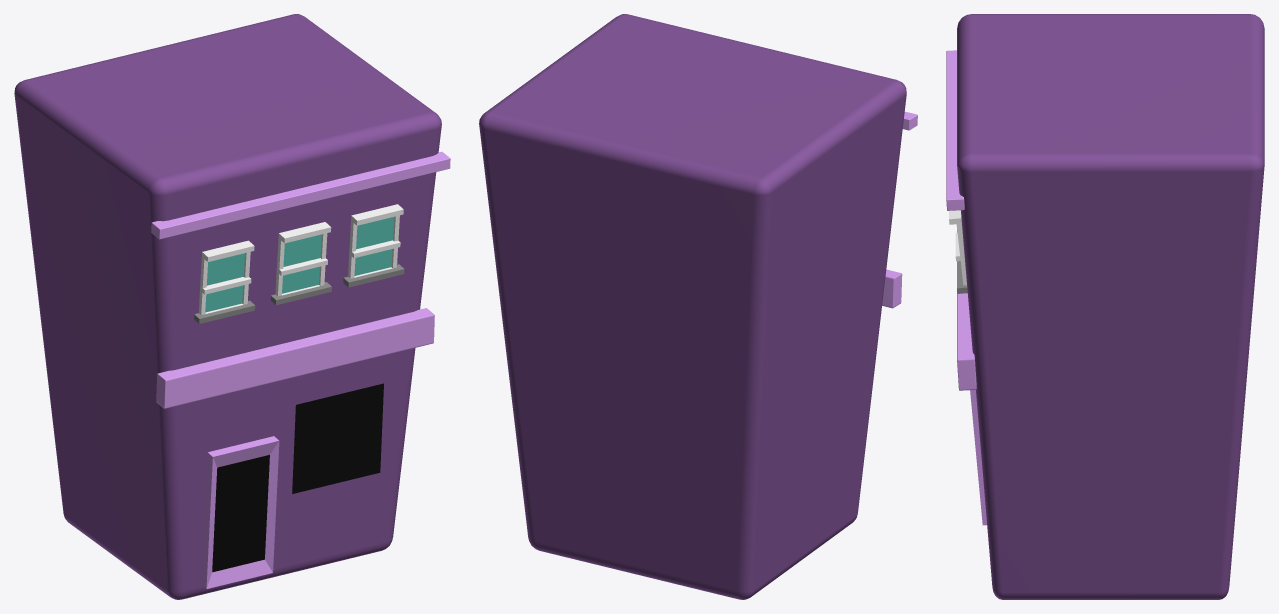
The model's file is prediozin_5.dae.
The picture shows the model from 3 angles, left to right: view 1: azimuth 30°, elevation 25°; view 2: azimuth 150°, elevation 25°; view 3: azimuth 270°, elevation 25°; orthographic projection. The views are drawn at different scales.
Parts seen in each view (by area): view 1: pCube1, pCube6, pCube7, pPlane1, pCube5, pCube49, pCube50, pCube51; view 2: pCube1, pCube6; view 3: pCube1, pCube5, pCube6, pCube49, pCube7.
Boxes of the visible parts, bbox=[...] form: pCube1: bbox=[14, 14, 441, 599]; pCube6: bbox=[156, 308, 434, 408]; pCube7: bbox=[202, 436, 279, 588]; pPlane1: bbox=[292, 383, 383, 493]; pCube5: bbox=[151, 151, 450, 239]; pCube49: bbox=[343, 204, 404, 287]; pCube50: bbox=[270, 222, 331, 305]; pCube51: bbox=[194, 240, 255, 323]; pCube1: bbox=[479, 14, 906, 599]; pCube6: bbox=[882, 269, 902, 308]; pCube1: bbox=[957, 14, 1264, 599]; pCube5: bbox=[946, 50, 964, 210]; pCube6: bbox=[957, 289, 976, 390]; pCube49: bbox=[949, 210, 967, 293]; pCube7: bbox=[970, 390, 986, 525].
Size of the model in its own units: 3.32 by 4.77 by 2.97.
